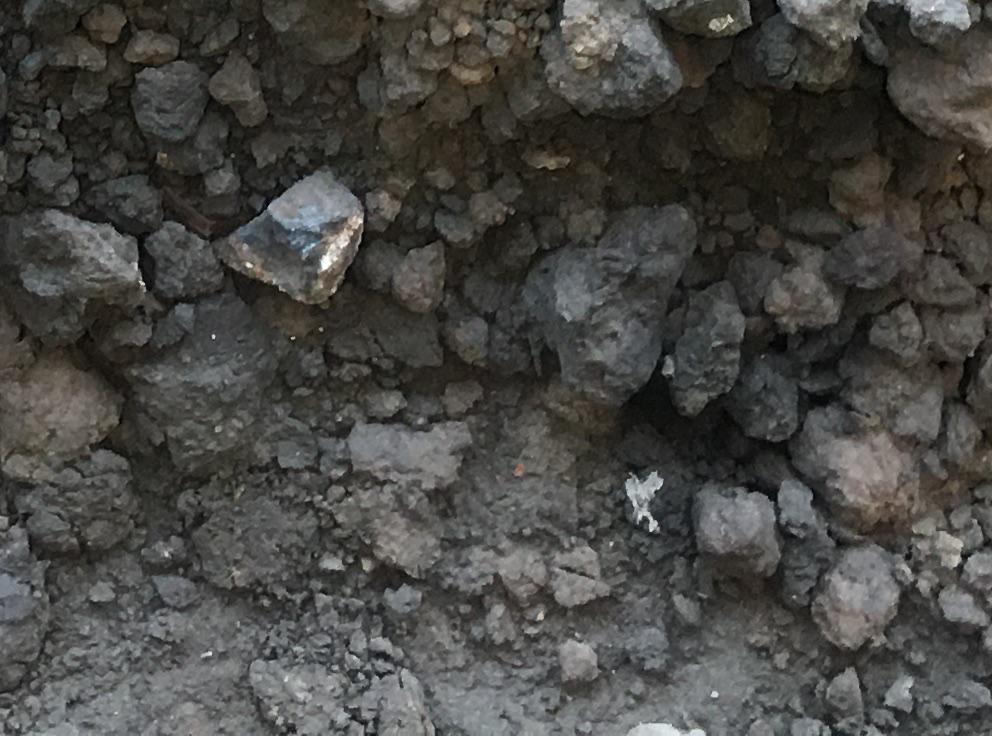block: (529, 199, 690, 410), (214, 167, 361, 305), (551, 1, 675, 137), (799, 397, 915, 526), (11, 209, 143, 307), (816, 542, 904, 653), (666, 285, 734, 419), (694, 480, 779, 575)
